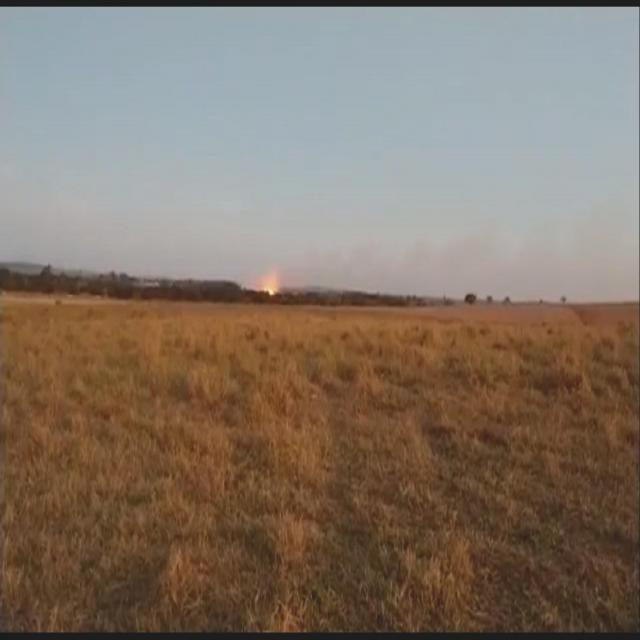Fire: (260, 278, 276, 295)
